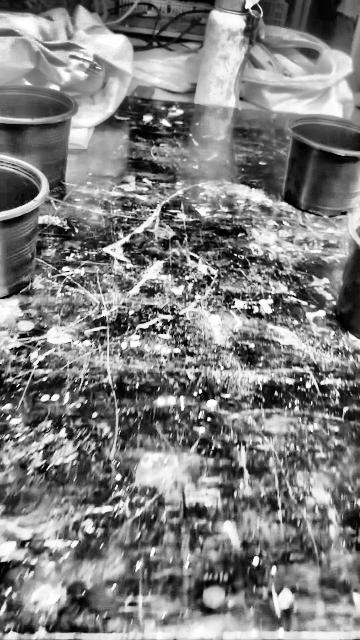pot: (0, 85, 77, 188), (285, 115, 359, 217), (0, 155, 48, 299), (337, 213, 359, 339)
